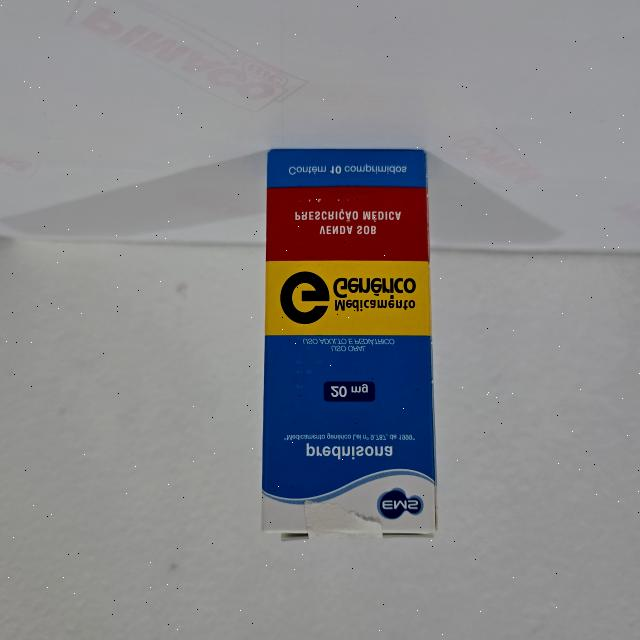prednisona: (257, 145, 441, 546)
